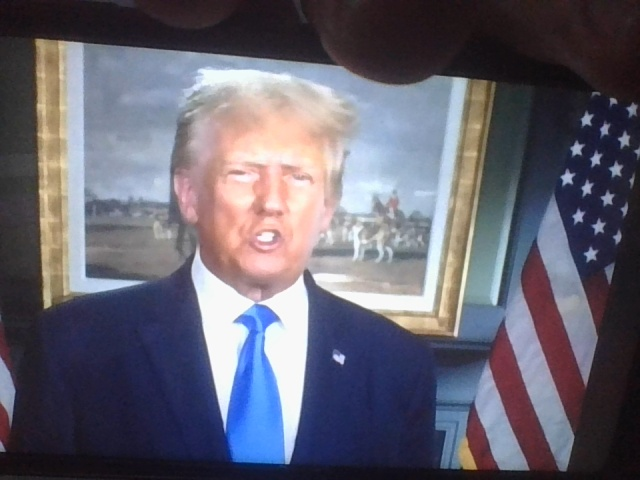fake: (181, 66, 341, 293)
